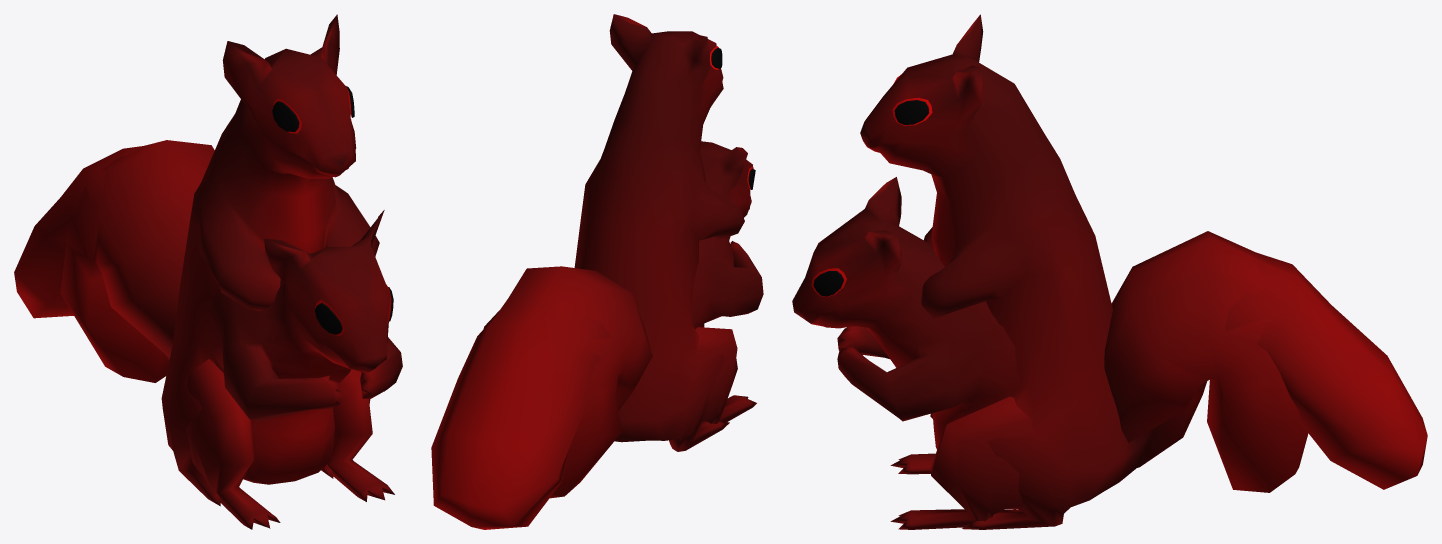
File: Animals_GraySquirrel.fbx
3 renders of one model, left to right at view 1: azimuth 30°, elevation 25°; view 2: azimuth 150°, elevation 25°; view 3: azimuth 270°, elevation 25°, orthographic. The views are drawn at different scales.
Parts seen in each view (by area): view 1: alt589, alt588; view 2: alt588, alt589; view 3: alt588, alt589.
Part boxes in pixels (<box>): alt589: <box>60,140,402,529</box>; alt588: <box>14,14,379,506</box>; alt588: <box>431,14,744,529</box>; alt589: <box>483,141,763,498</box>; alt588: <box>860,14,1427,529</box>; alt589: <box>792,177,1308,529</box>.
Bounding box in the file's own units: 10.45 × 27.86 × 35.34.
